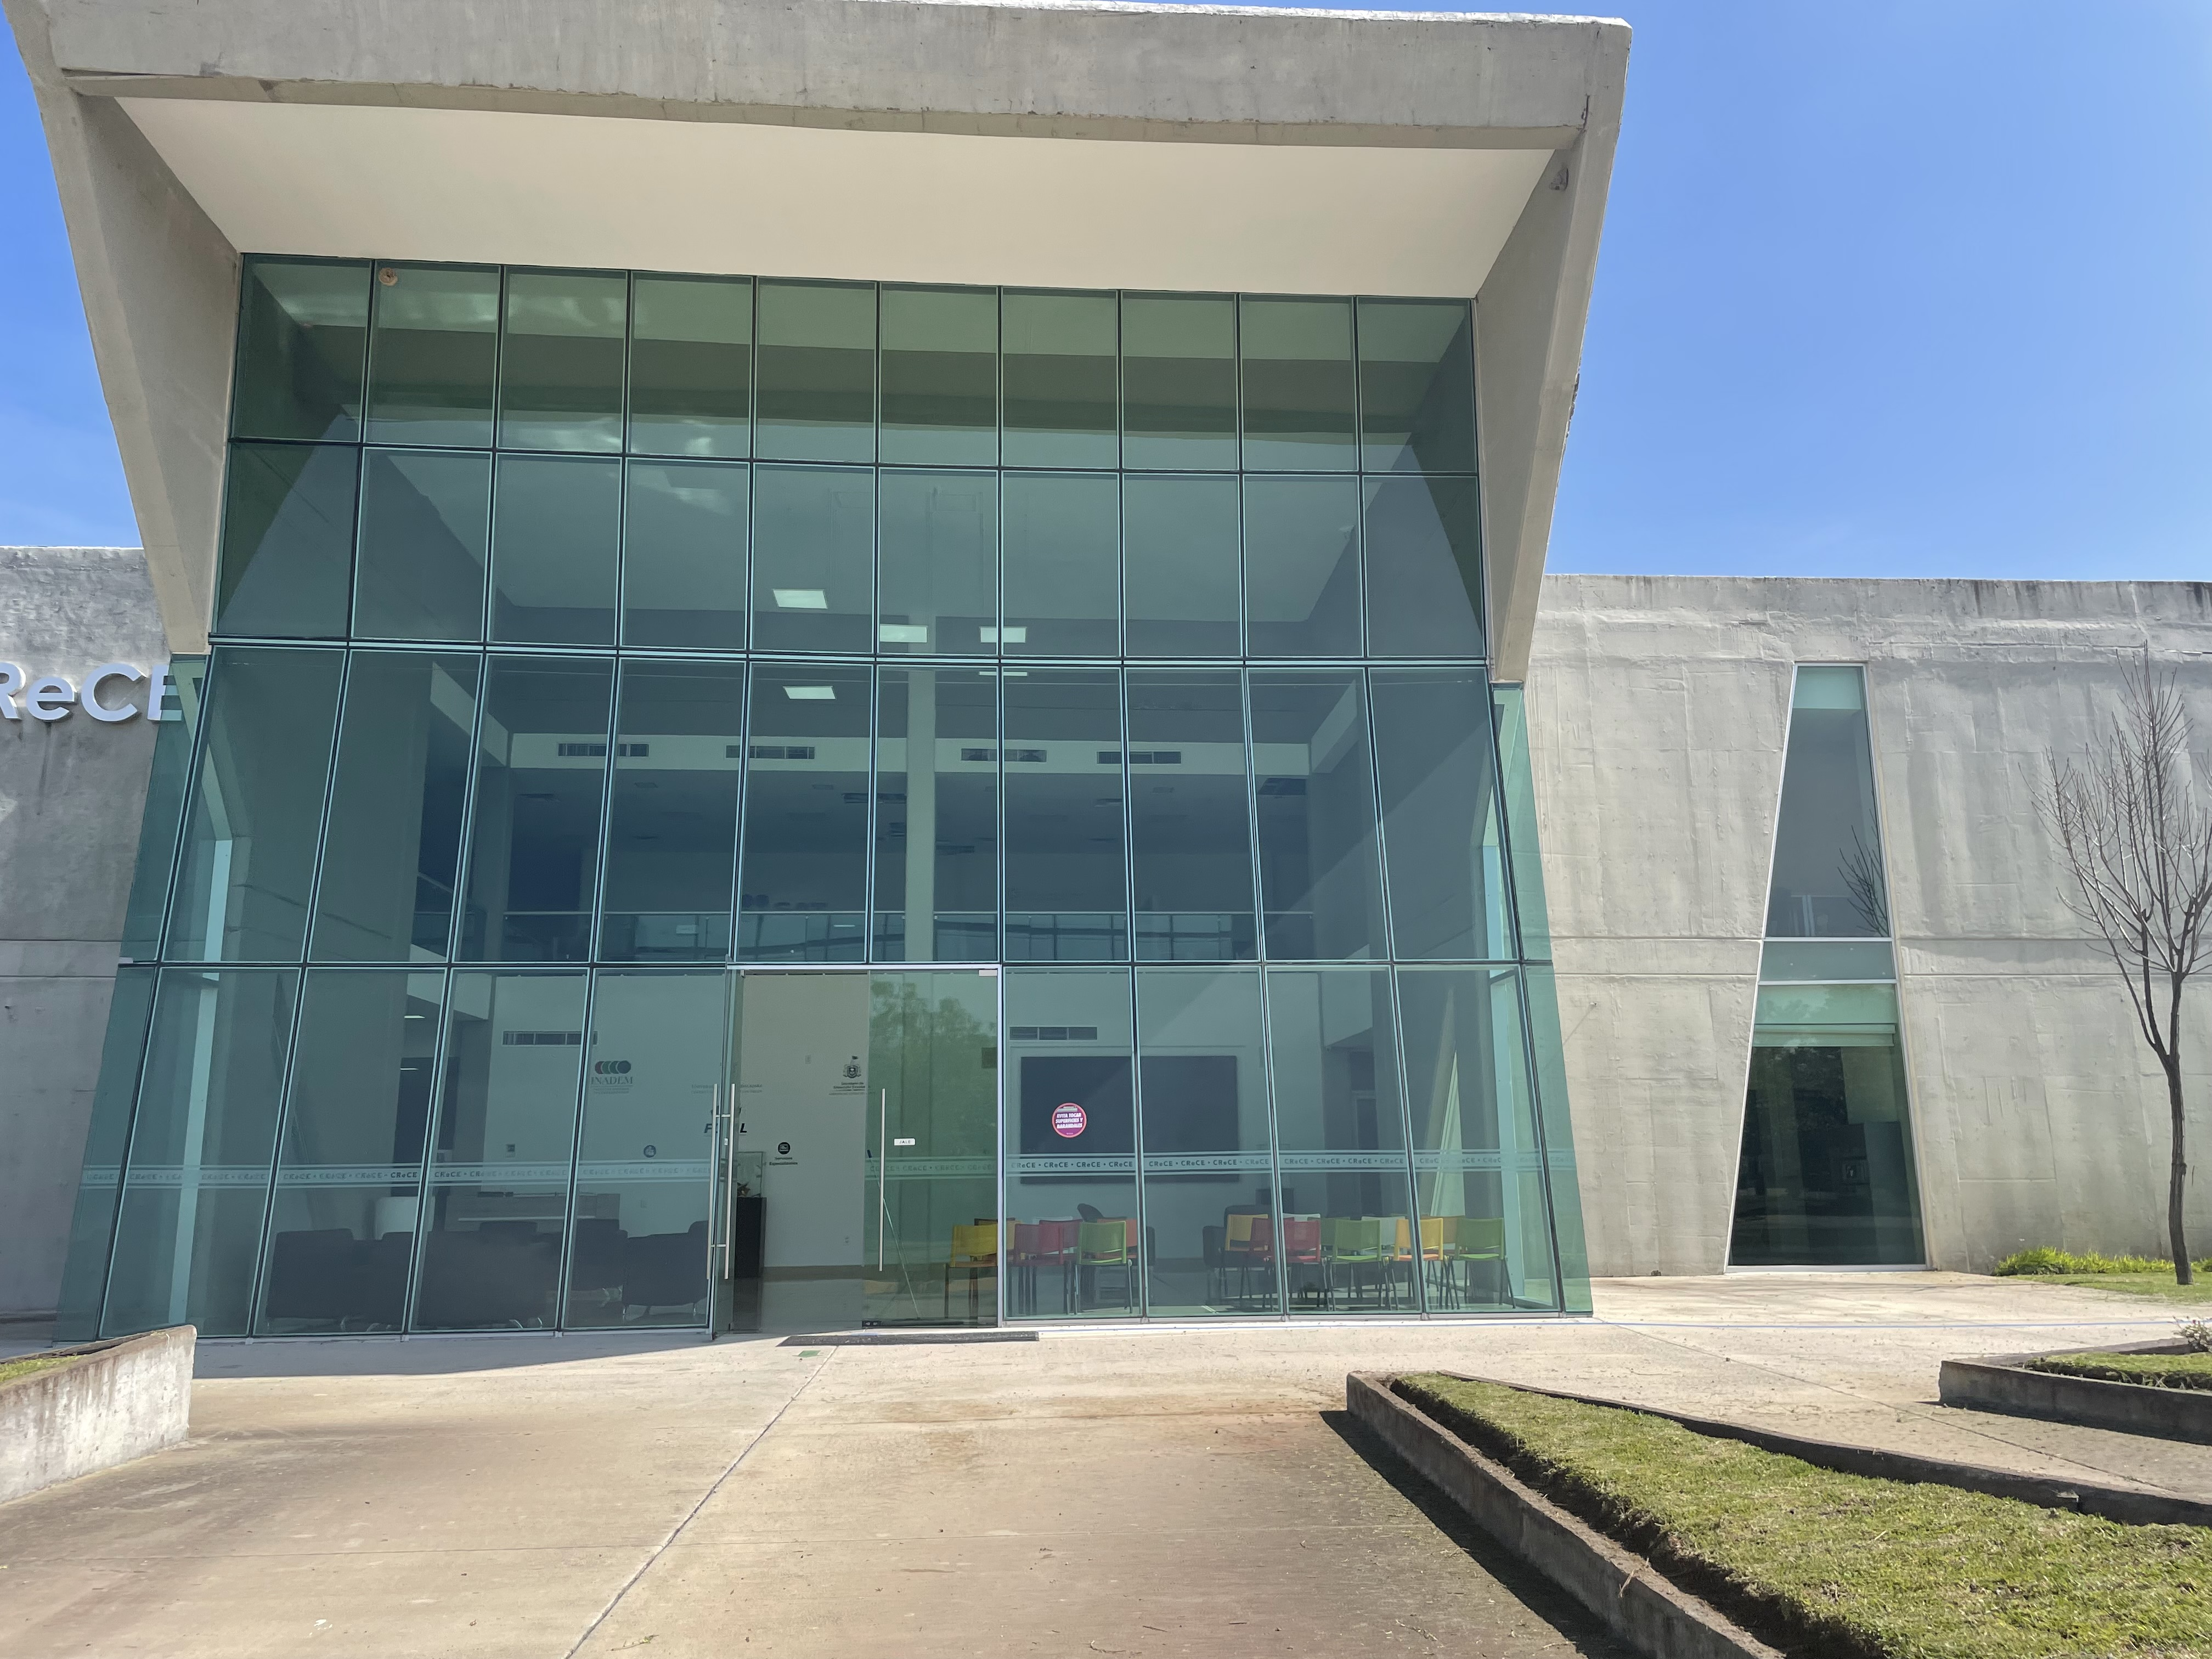crece: (0, 7, 2107, 1385)
